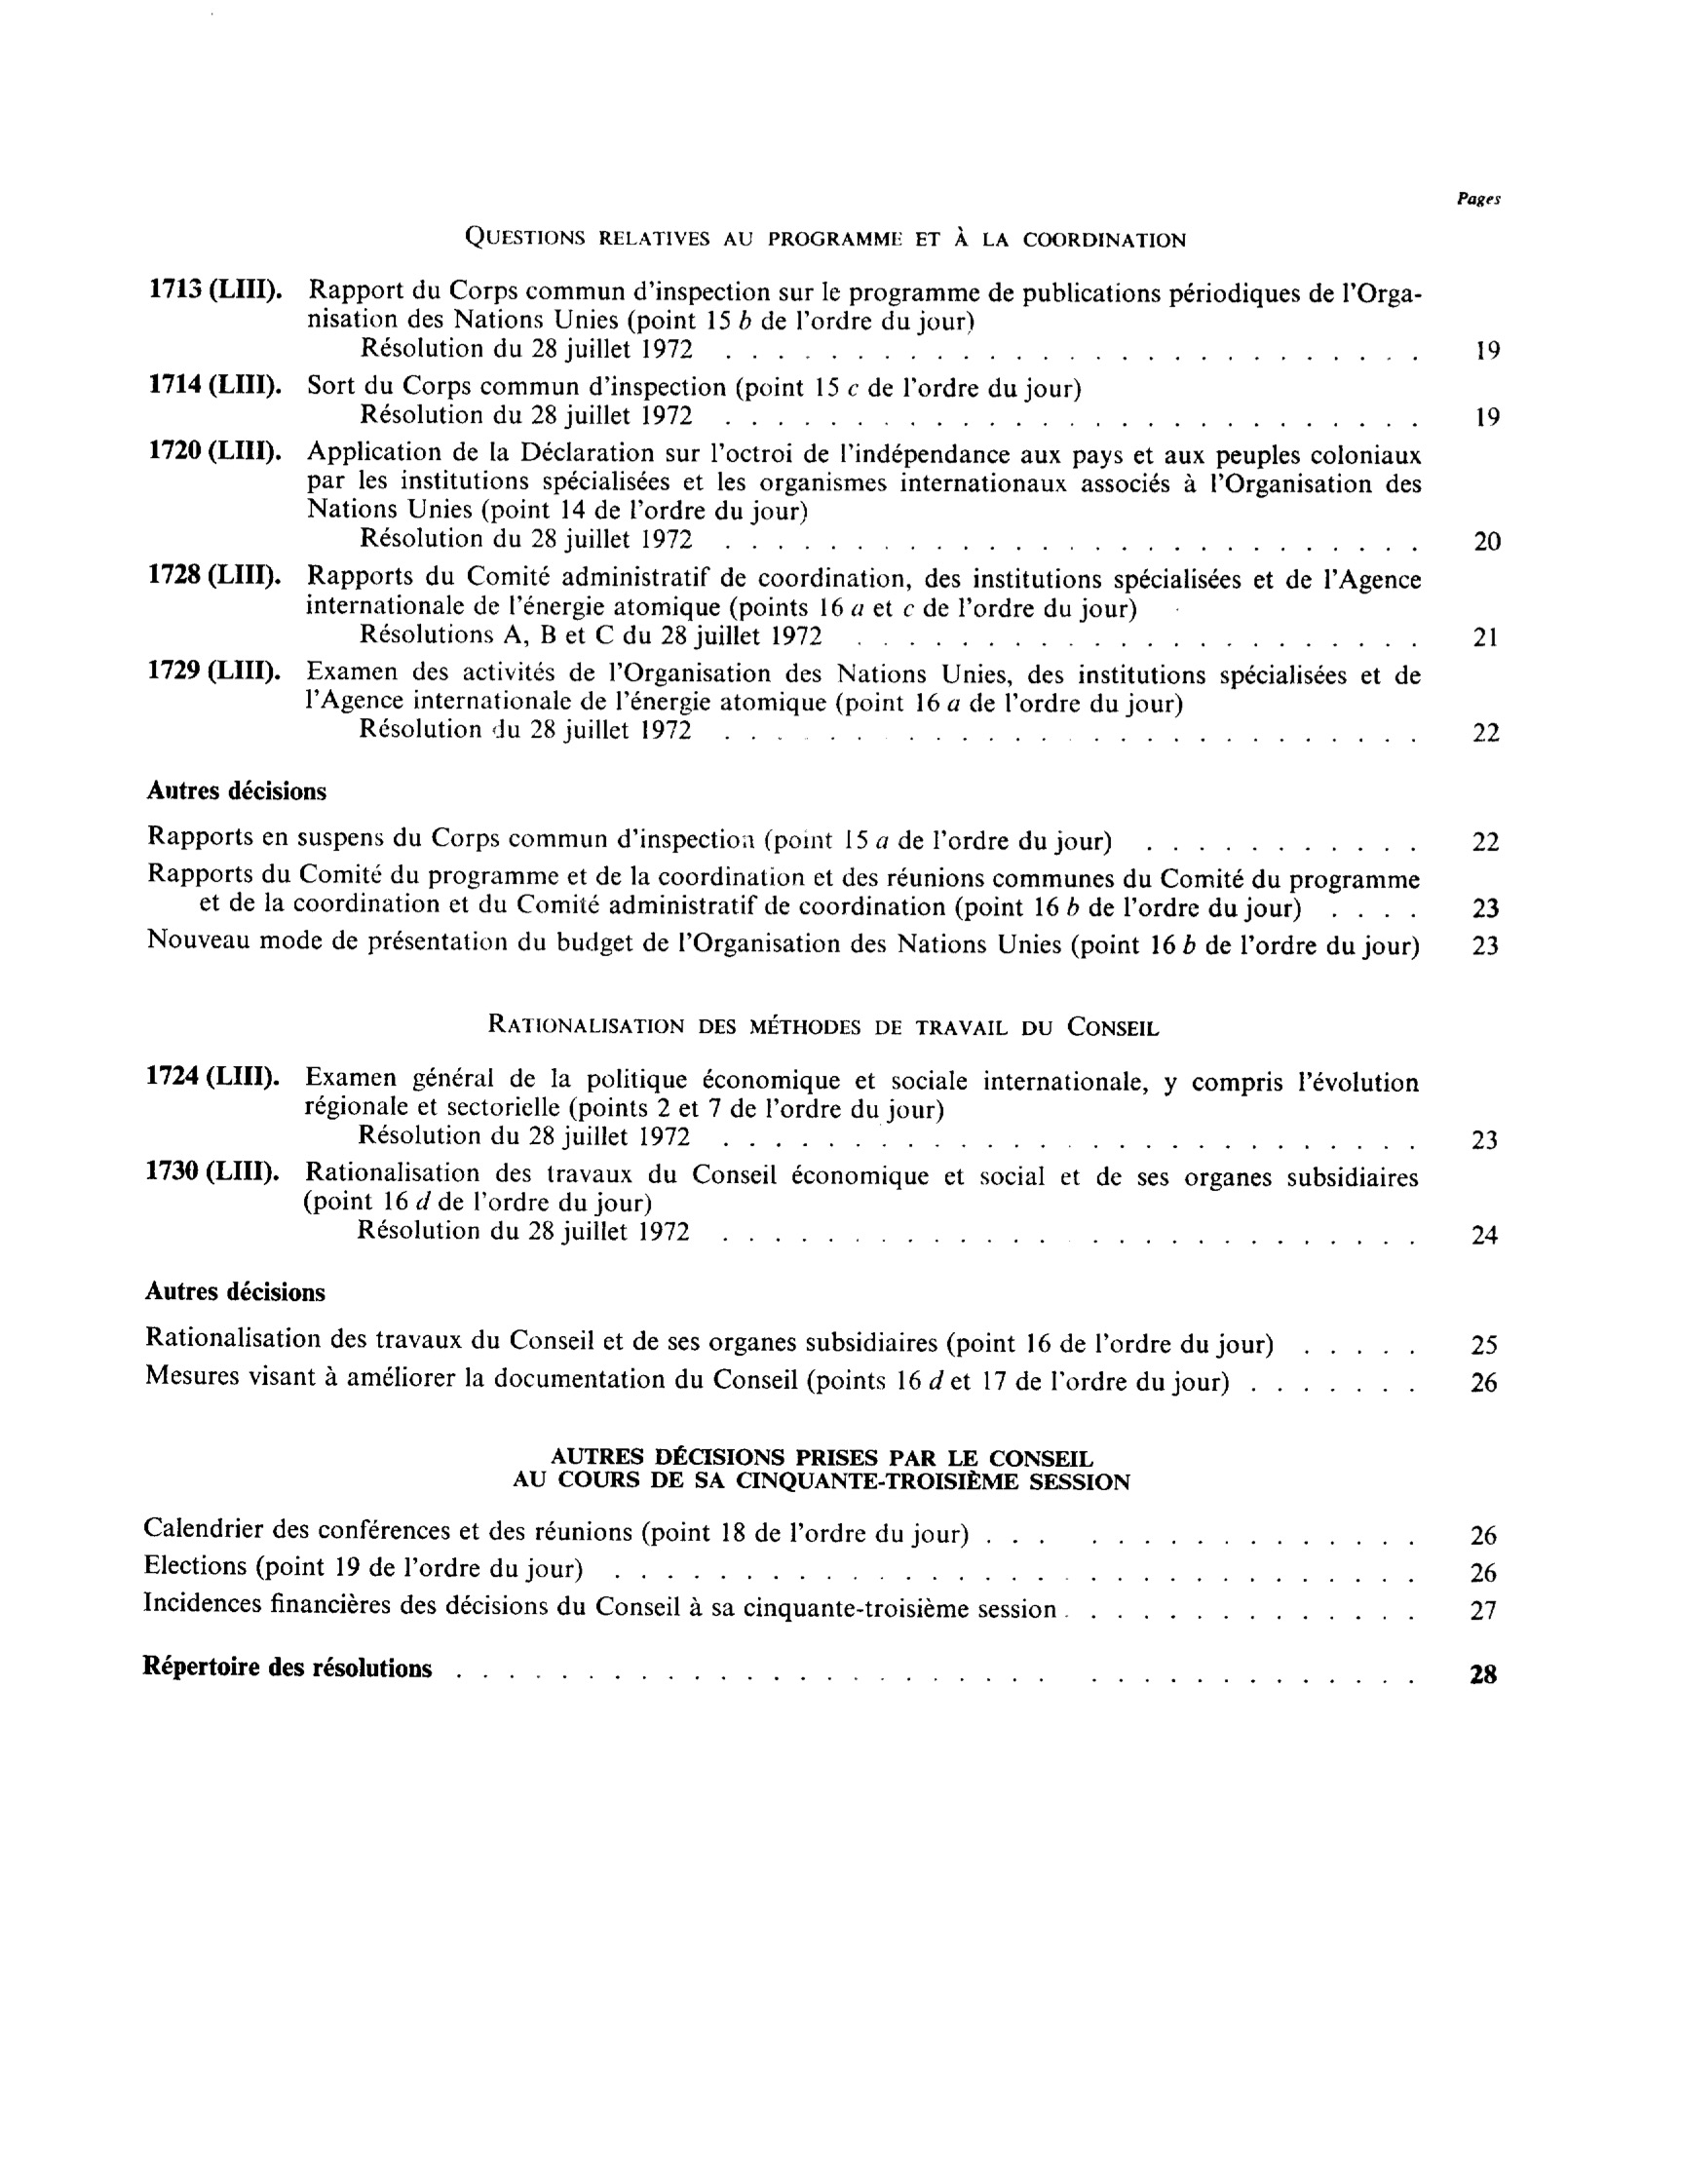QuireMarksZone: (120, 138, 1549, 1758)
